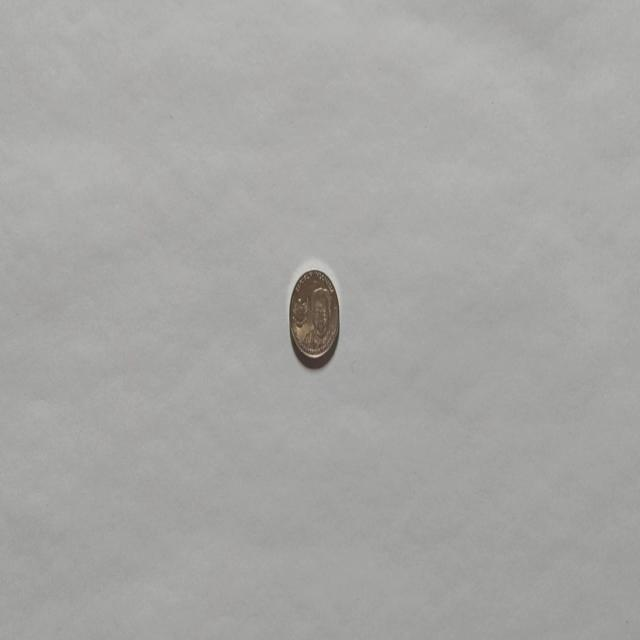seratus rupiah: (288, 266, 340, 362)
